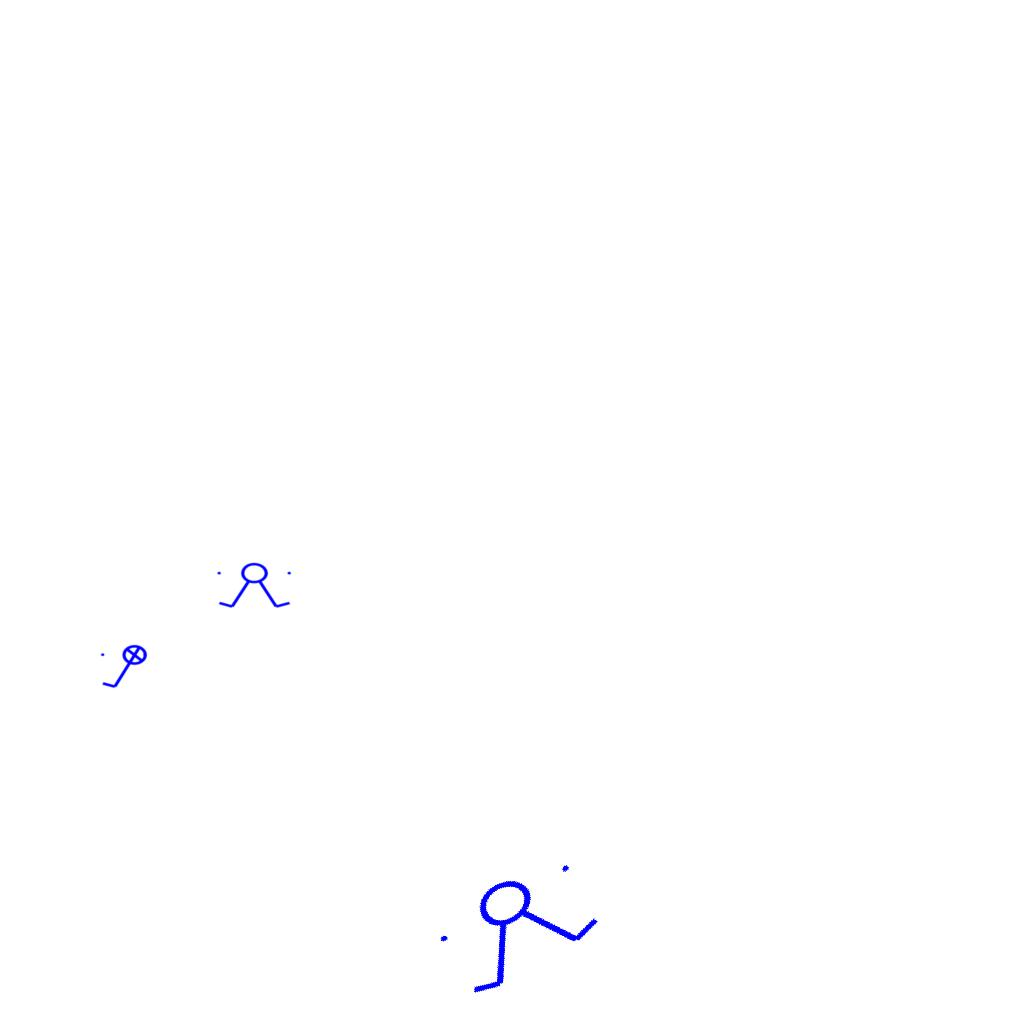Ausschalter_beleuchtet: (98, 644, 154, 692)
Serienschalter: (422, 841, 616, 1009), (213, 562, 297, 610)
